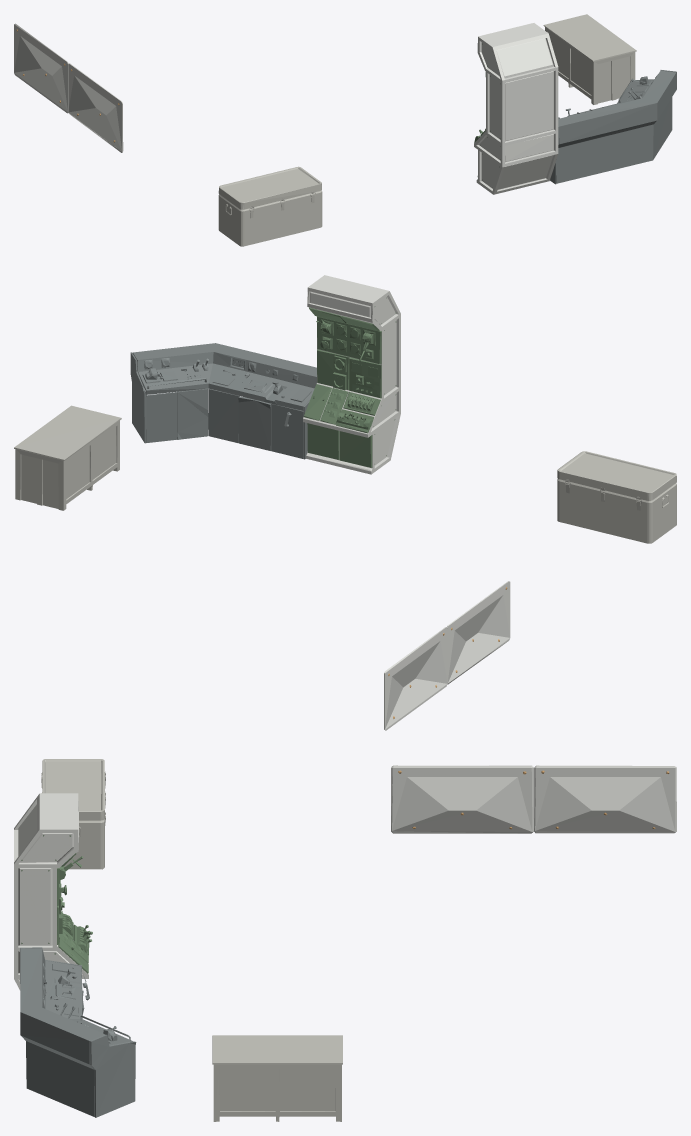
Rendered from underwater_lab_c.glb.
The picture shows the model from 3 angles, top to bottom: view 1: azimuth 30°, elevation 25°; view 2: azimuth 150°, elevation 25°; view 3: azimuth 270°, elevation 25°; orthographic projection. The views are drawn at different scales.
Visible parts, largest first — view 1: scientist_cover_b_LOD0, metal_crate_e, ExControlPanel; view 2: ExControlPanel, metal_crate_e, scientist_cover_b_LOD0, control_panels_tall_d_LOD0; view 3: scientist_cover_b_LOD0, metal_crate_e, ExControlPanel, control_panels_tall_d_LOD0.
Boxes of the visible parts, box(x1,y1,x2,y2) form: scientist_cover_b_LOD0: box(14, 23, 558, 194); metal_crate_e: box(218, 14, 636, 246); ExControlPanel: box(550, 70, 676, 184); ExControlPanel: box(130, 343, 316, 459); metal_crate_e: box(14, 405, 676, 543); scientist_cover_b_LOD0: box(303, 275, 510, 730); control_panels_tall_d_LOD0: box(303, 297, 396, 467); scientist_cover_b_LOD0: box(14, 765, 676, 990); metal_crate_e: box(41, 759, 342, 1121); ExControlPanel: box(20, 947, 136, 1117); control_panels_tall_d_LOD0: box(21, 835, 92, 973).
Size of the model in its own units: 8.2 by 2.52 by 7.74.
